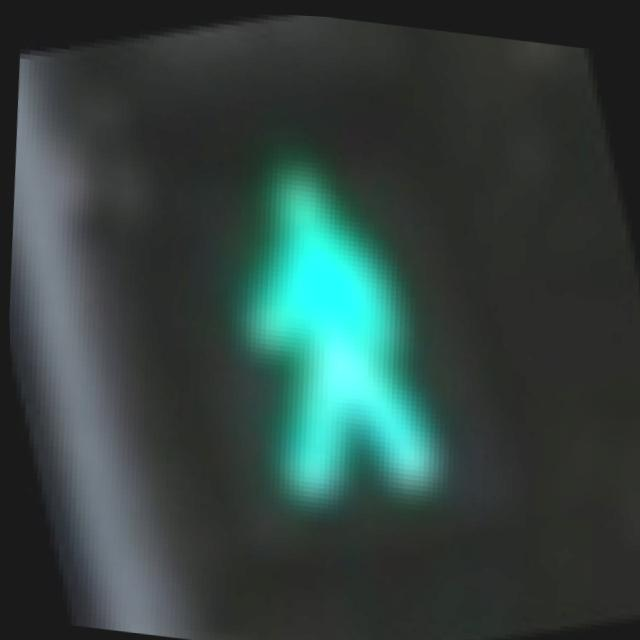green_light: (88, 48, 577, 599)
